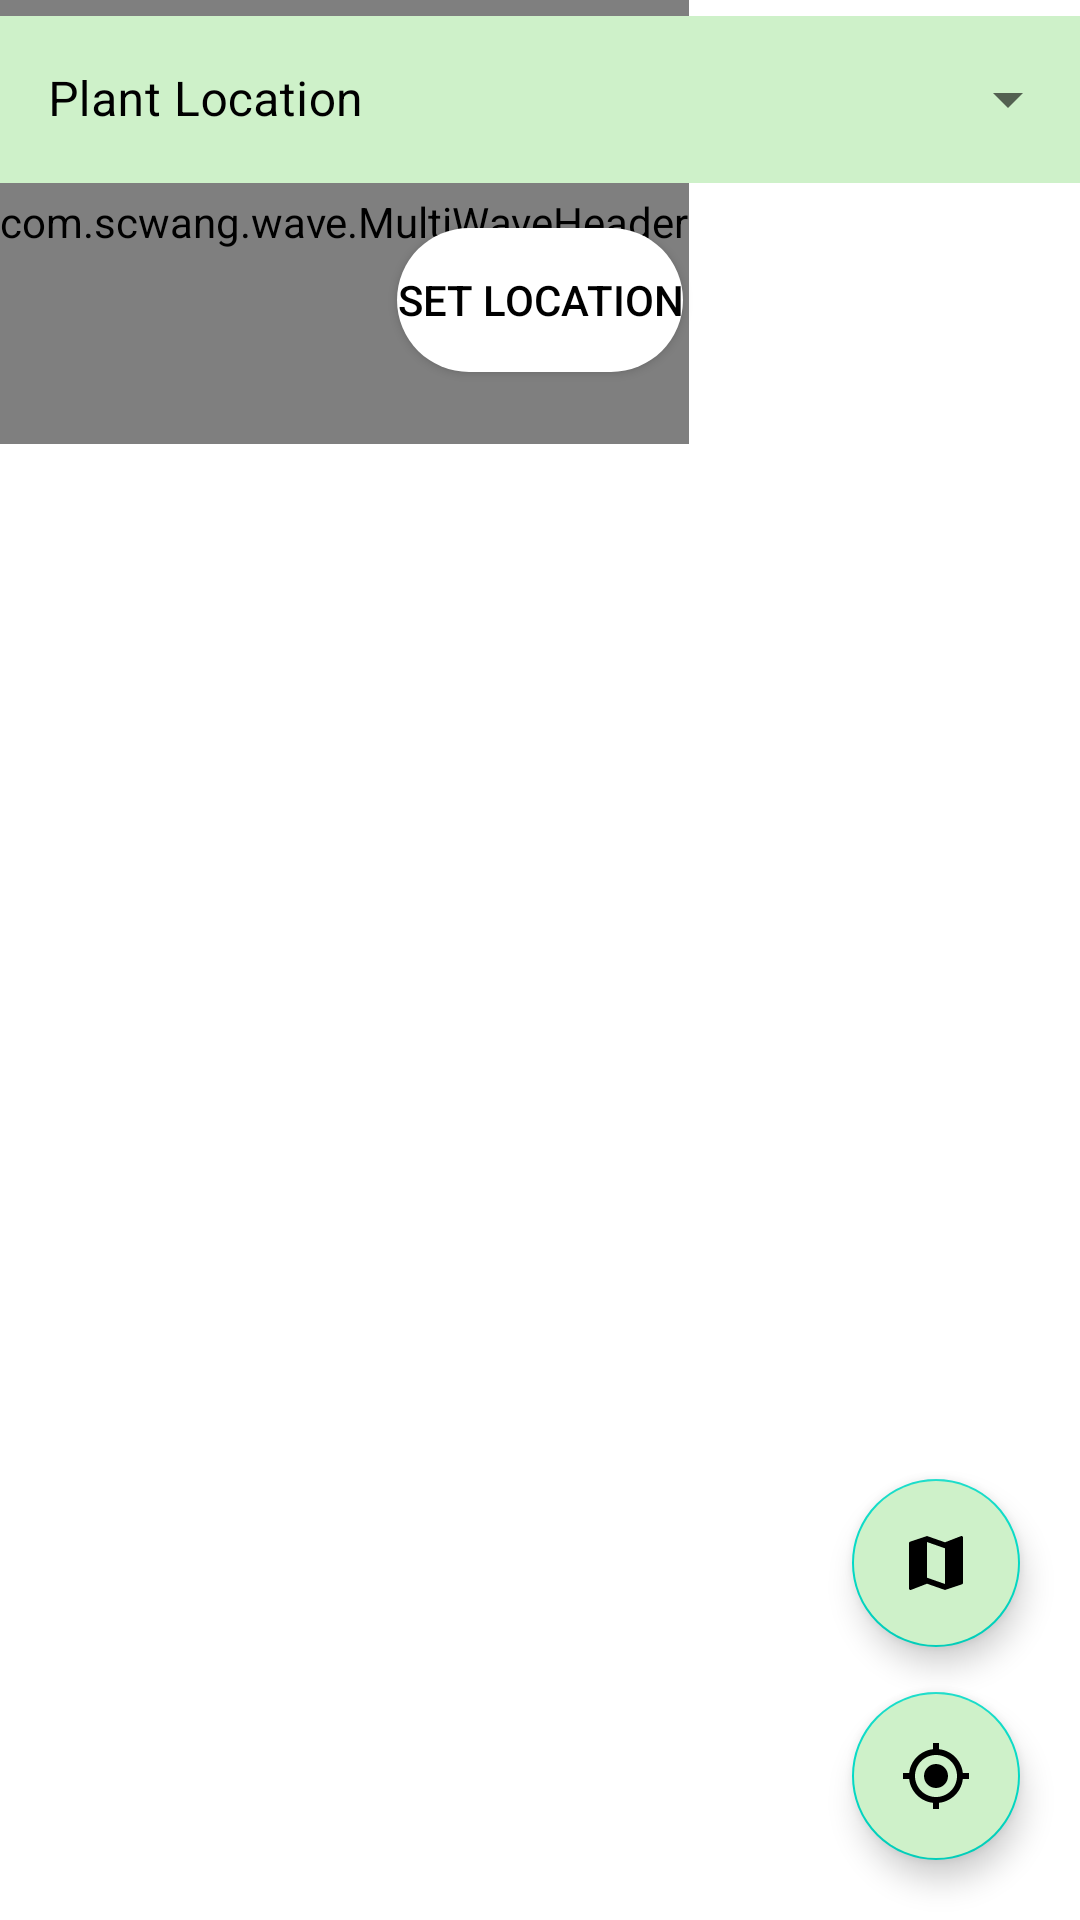

Icons on this 1080w x 1920h Android screen, each with its box as (x1, y1, x2, y2):
maps google: (852, 1479, 1020, 1647)
